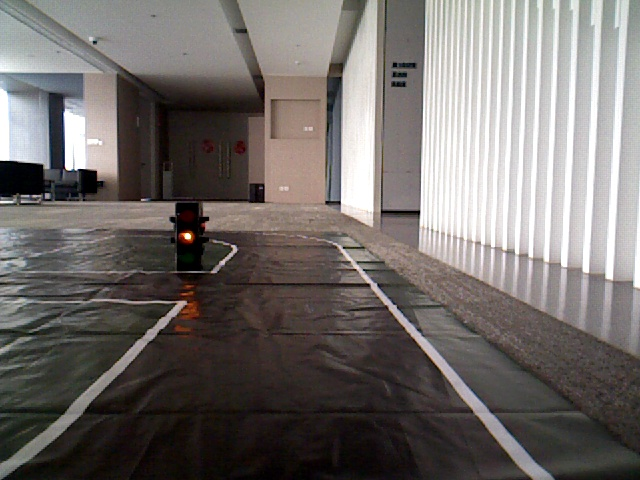yellow: (173, 201, 198, 269)
